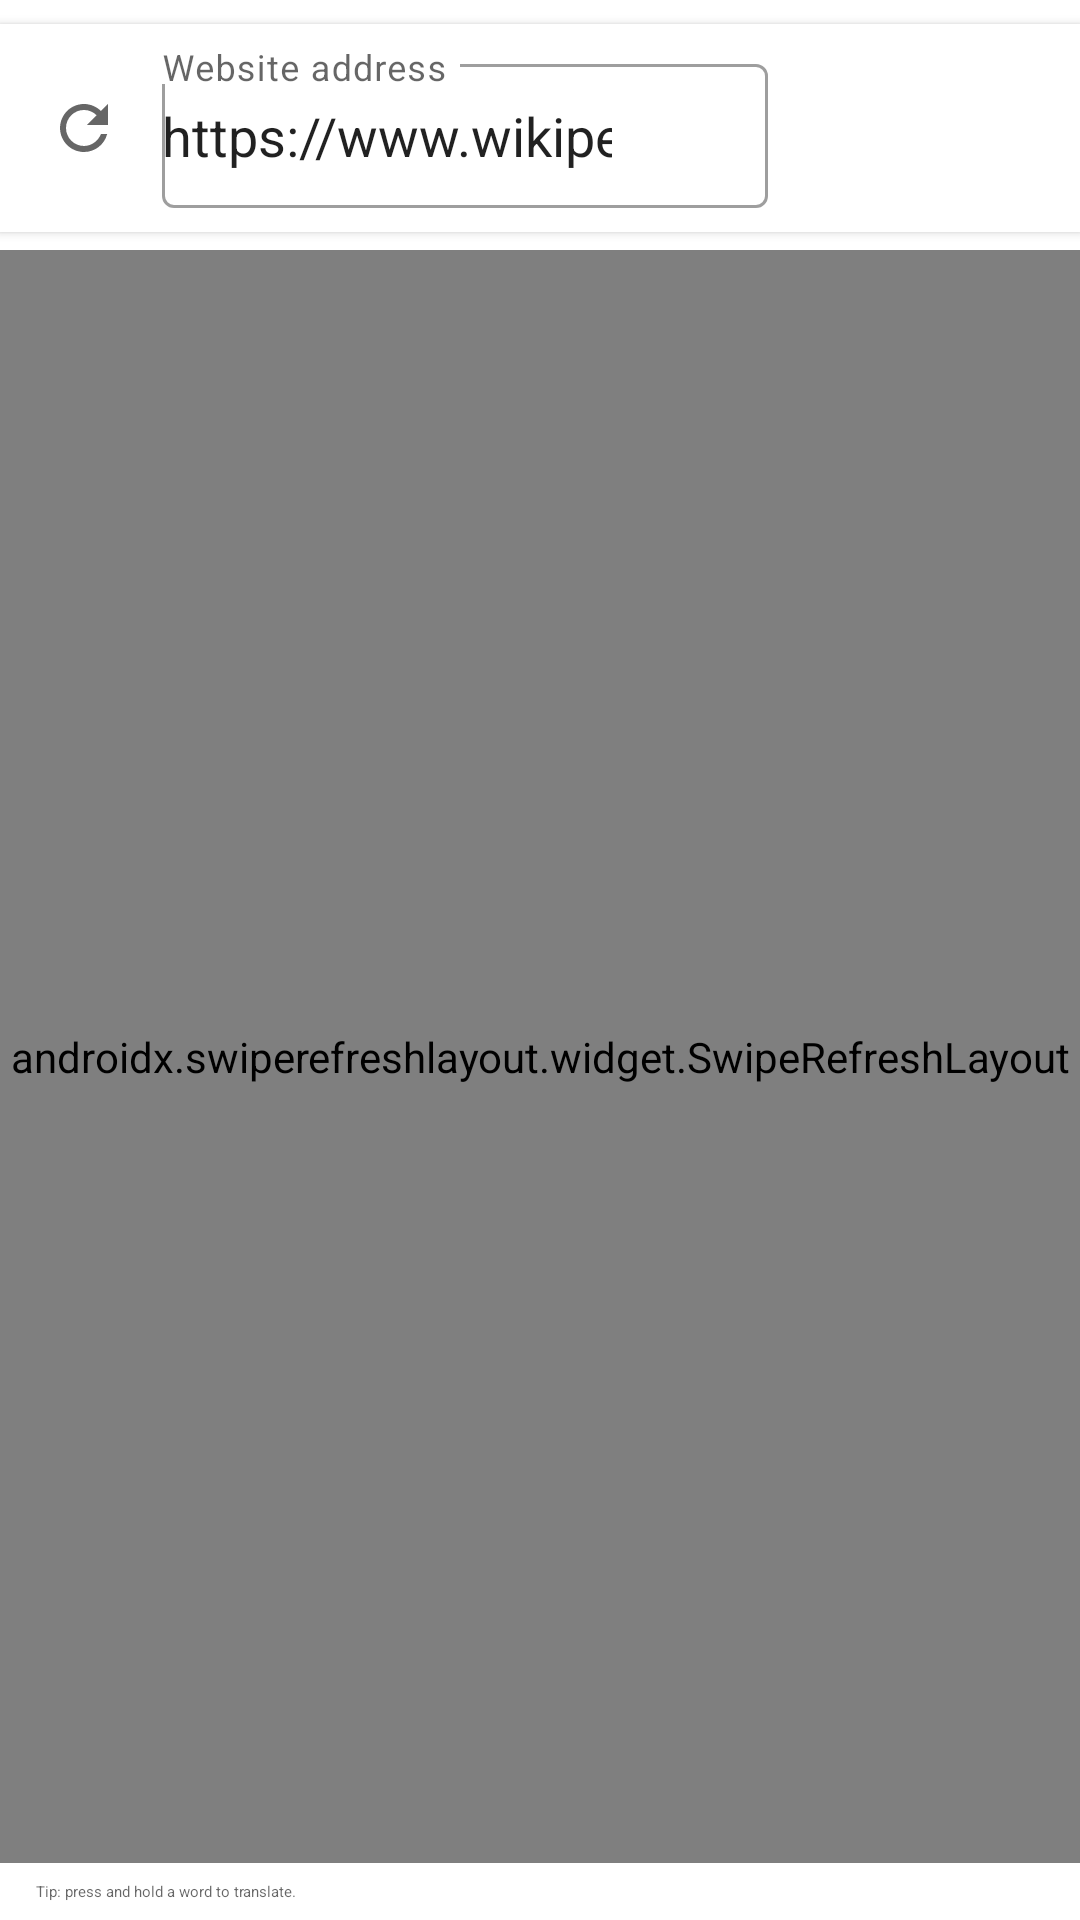

Icons on this 1080*1920 Android screen, each with the point to tap as (x,y):
Reload page: (84,128)
